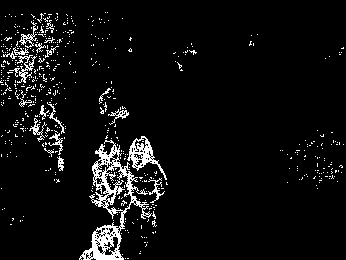person: (133, 137, 182, 243), (93, 141, 130, 231), (33, 99, 72, 183)
